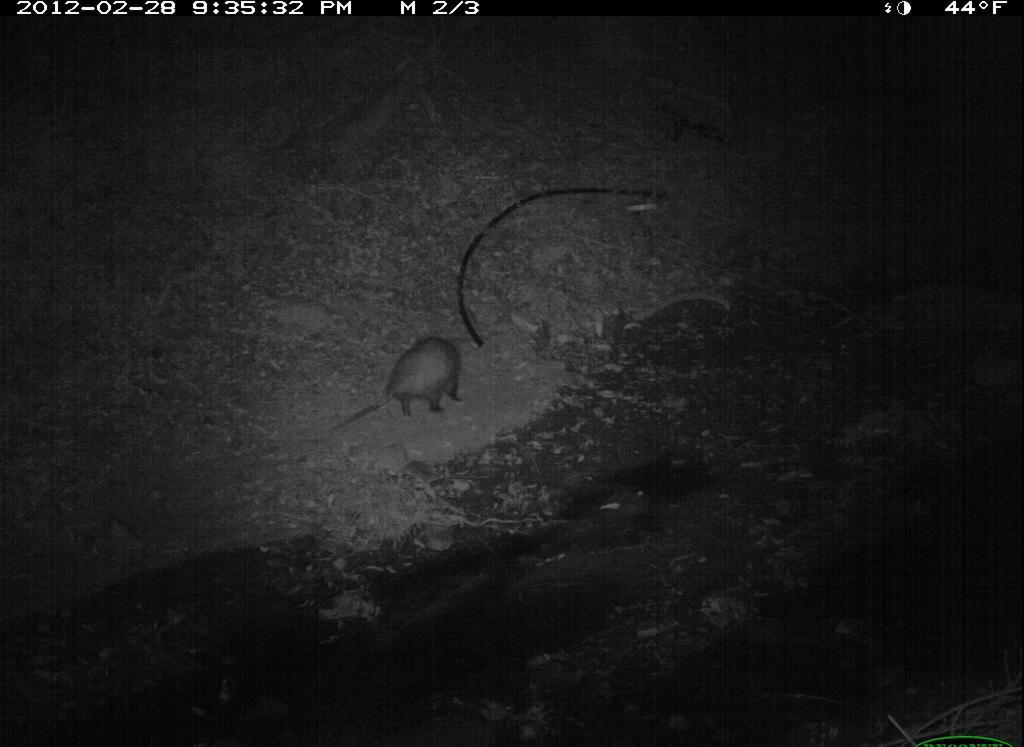opossum: (326, 327, 475, 440)
